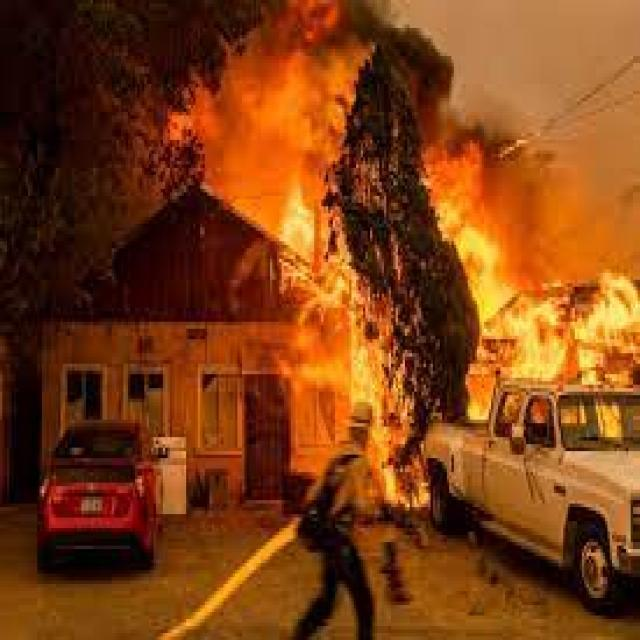Fire: (438, 160, 560, 309), (512, 269, 640, 392), (233, 88, 334, 232), (284, 0, 376, 106)
